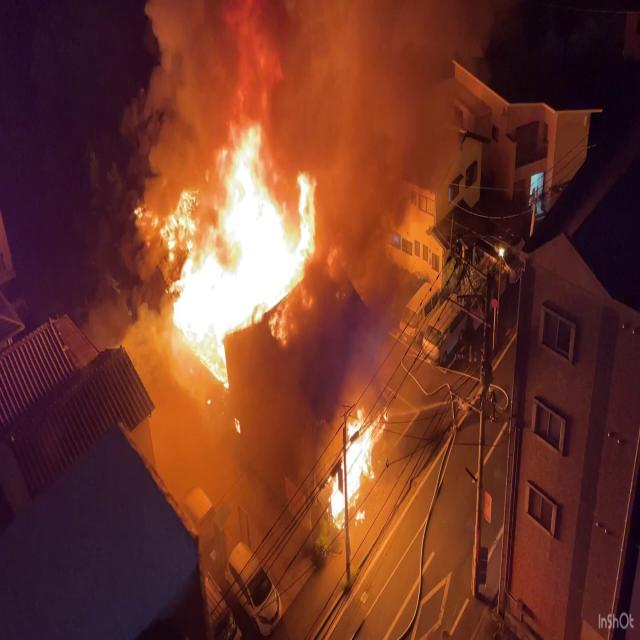Fire: (148, 102, 324, 380), (320, 400, 388, 530)
